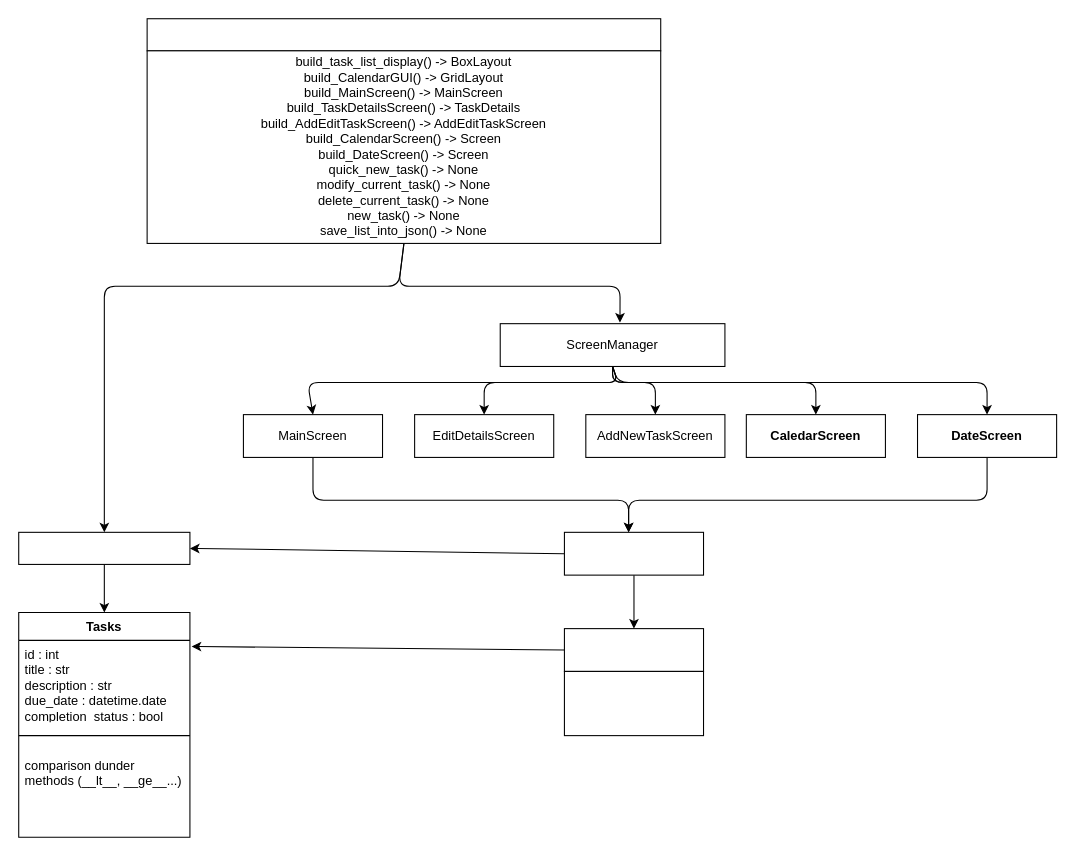
The diagram is 1075 pixels wide and 859 high, and some of its shapes have lost their labels. Each missing label, with the centre of its shape:
"App" belongs at [403,34].
"TaskButton" belongs at [633,649].
"TaskList Display" belongs at [633,553].
"TaskList: list" belongs at [104,547].
